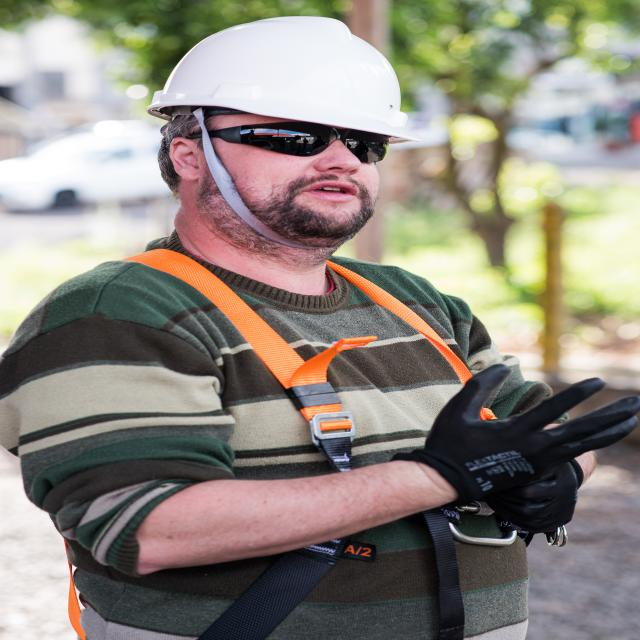capacete: (142, 13, 430, 150)
corda de vida: (87, 235, 541, 640)
luva: (397, 356, 640, 504)
